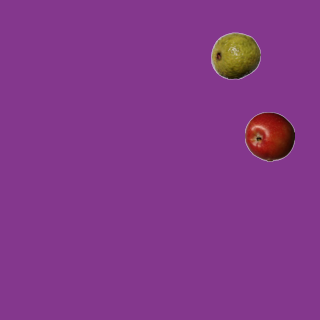Apple Braeburn: (244, 111, 294, 161)
Guava: (210, 30, 260, 80)
